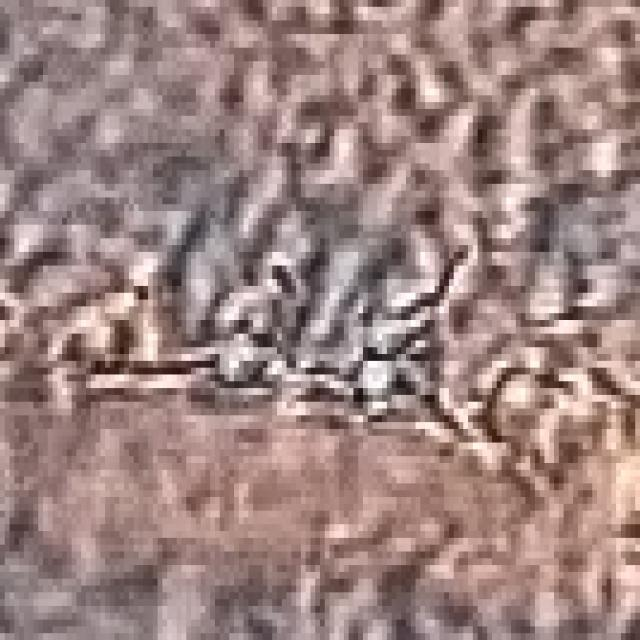crack: (68, 321, 288, 417)
